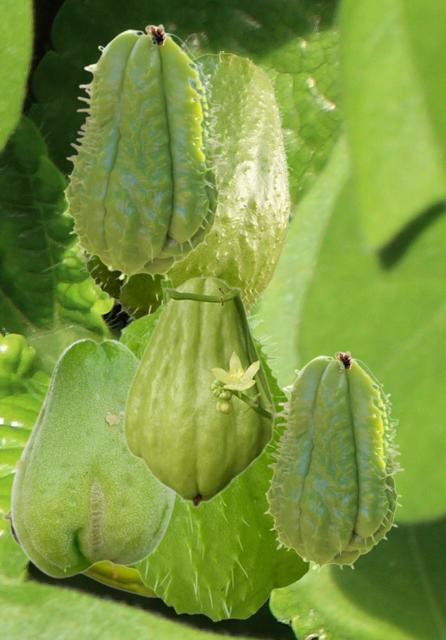sayote: (118, 273, 312, 621), (76, 51, 292, 322), (61, 23, 226, 283), (9, 337, 176, 577), (122, 276, 289, 507), (263, 350, 403, 572), (1, 509, 157, 597)
